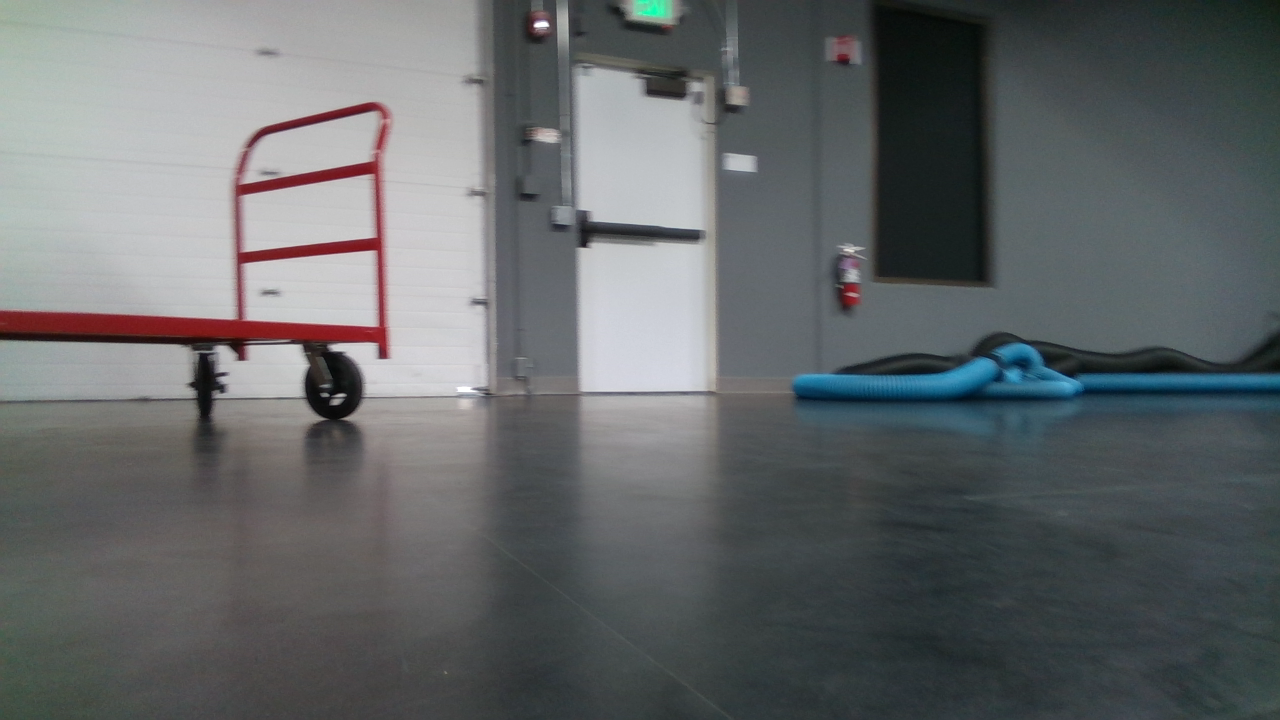Dolly: (0, 95, 401, 441)
Wheel: (302, 345, 365, 421), (186, 346, 228, 420)
